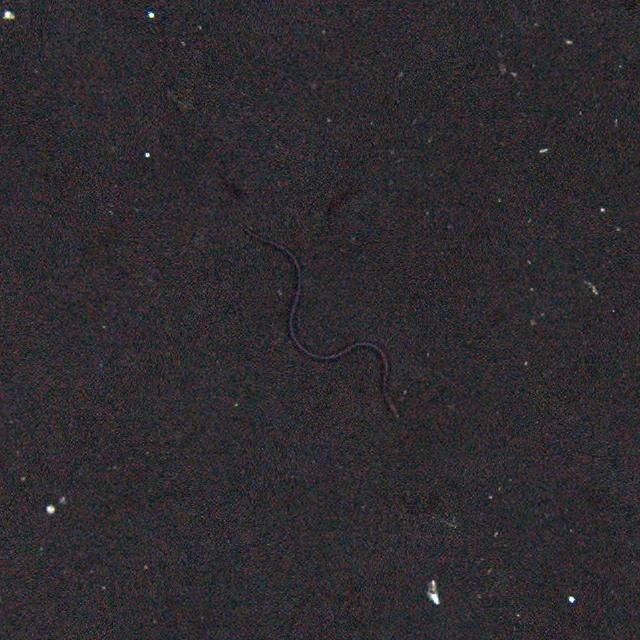eel: (236, 218, 406, 422)
